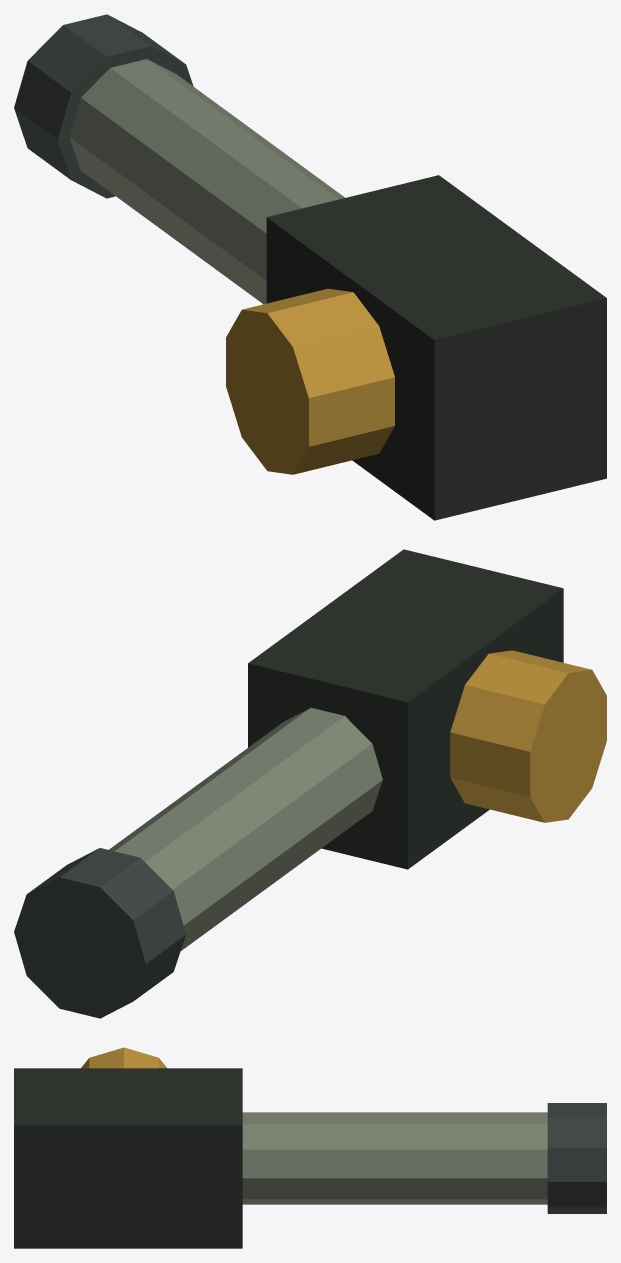
The model's file is centipede_gunner_weapon.obj.
3 renders of one model, top to bottom at view 1: azimuth 30°, elevation 25°; view 2: azimuth 150°, elevation 25°; view 3: azimuth 270°, elevation 25°, orthographic. The views are drawn at different scales.
Visible parts, largest first — view 1: centipede_gunner_weapon; view 2: centipede_gunner_weapon; view 3: centipede_gunner_weapon.
Boxes of the visible parts, x1=… form: centipede_gunner_weapon: x1=14, y1=14, x2=606, y2=520; centipede_gunner_weapon: x1=14, y1=549, x2=606, y2=1018; centipede_gunner_weapon: x1=14, y1=1047, x2=606, y2=1248.
Size of the model in its own units: 0.24 by 0.16 by 0.7.
